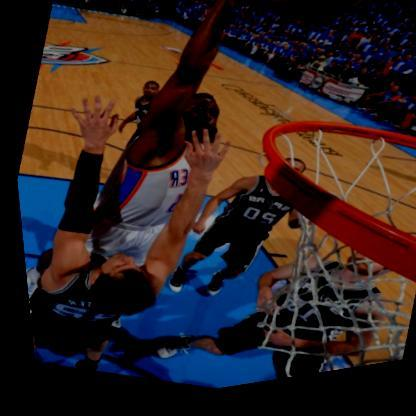basketball: (250, 0, 376, 57)
rim: (191, 102, 416, 394)
